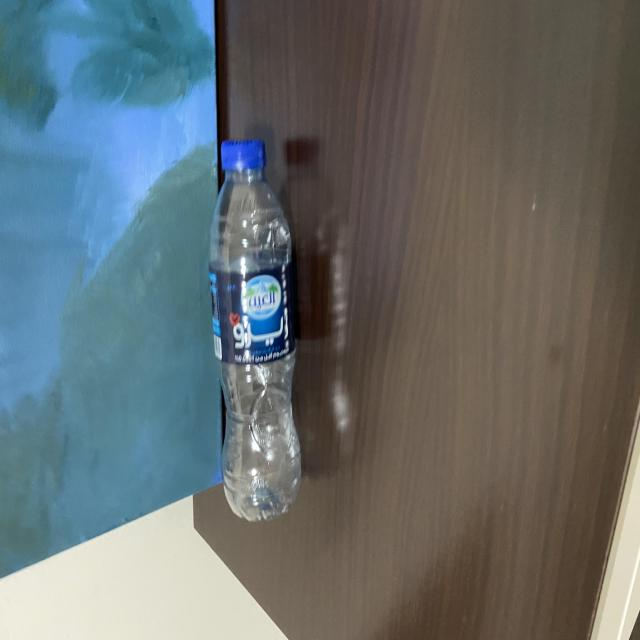bottle: (200, 130, 314, 532)
